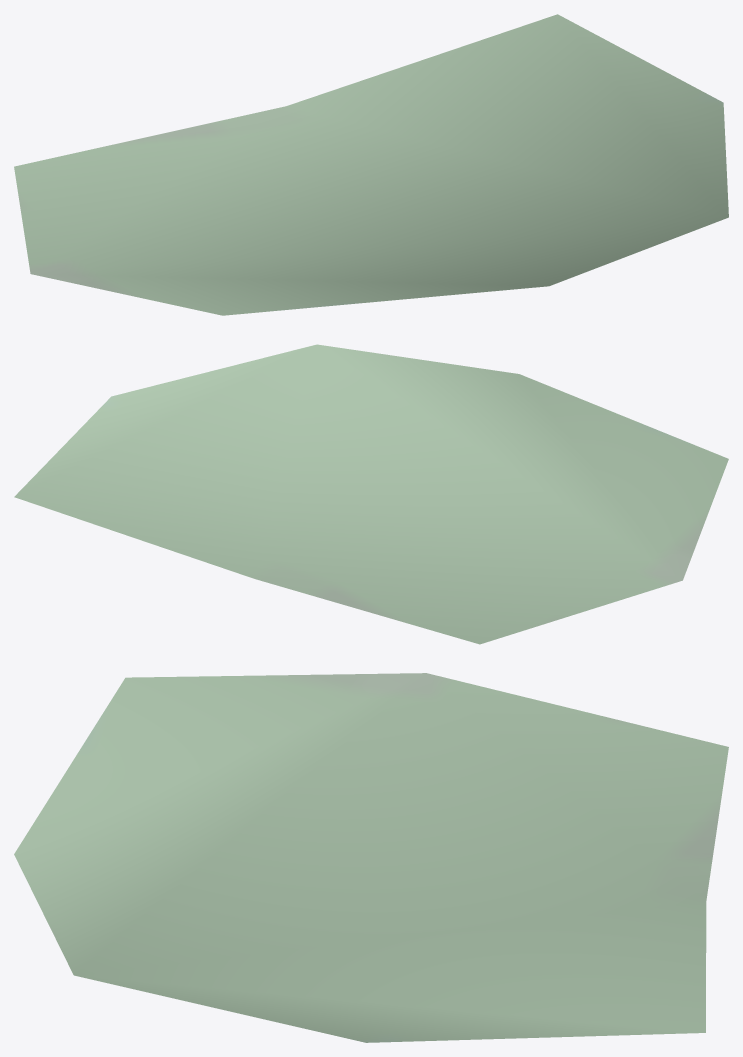
File: TROLLHOLE02_HOLECAP129.fbx
3 renders of one model, top to bottom at view 1: azimuth 30°, elevation 25°; view 2: azimuth 150°, elevation 25°; view 3: azimuth 270°, elevation 25°, orthographic. The views are drawn at different scales.
Visible parts, largest first — view 1: TROLLHOLE02_HOLECAP129; view 2: TROLLHOLE02_HOLECAP129; view 3: TROLLHOLE02_HOLECAP129.
Part boxes in pixels (x1=…): TROLLHOLE02_HOLECAP129: x1=14, y1=14, x2=728, y2=315; TROLLHOLE02_HOLECAP129: x1=14, y1=344, x2=728, y2=644; TROLLHOLE02_HOLECAP129: x1=14, y1=673, x2=728, y2=1042.
Size of the model in its own units: 28963 by 1604 by 21756.
1 material, 1 textured.
